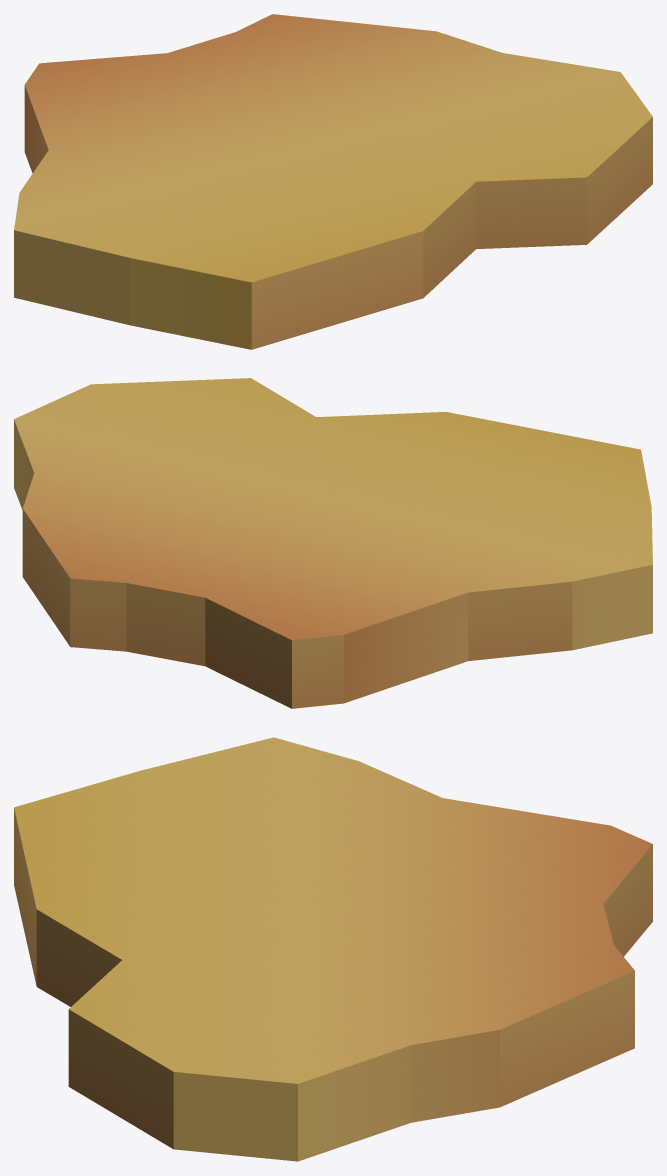
Rendered from Canyon_Stone_013.FBX.
3 views of the same model, one above another, from view 1: azimuth 30°, elevation 25°; view 2: azimuth 150°, elevation 25°; view 3: azimuth 270°, elevation 25° (orthographic). The views are drawn at different scales.
Visible parts, largest first — view 1: Canyon_Stone_013; view 2: Canyon_Stone_013; view 3: Canyon_Stone_013.
Part boxes in pixels (bbox=[...]): Canyon_Stone_013: bbox=[14, 14, 652, 349]; Canyon_Stone_013: bbox=[14, 378, 652, 708]; Canyon_Stone_013: bbox=[14, 737, 652, 1161].
Bounding box in the file's own units: 151 × 15.72 × 117.
Materials: 1 (1 with a texture image).
